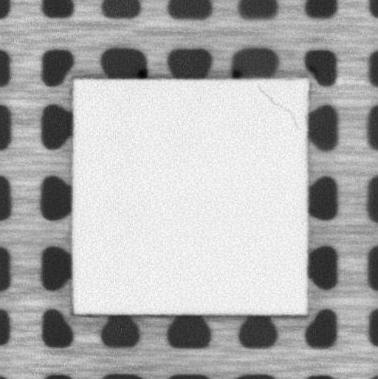DIE_CRACK: (257, 84, 299, 128)
